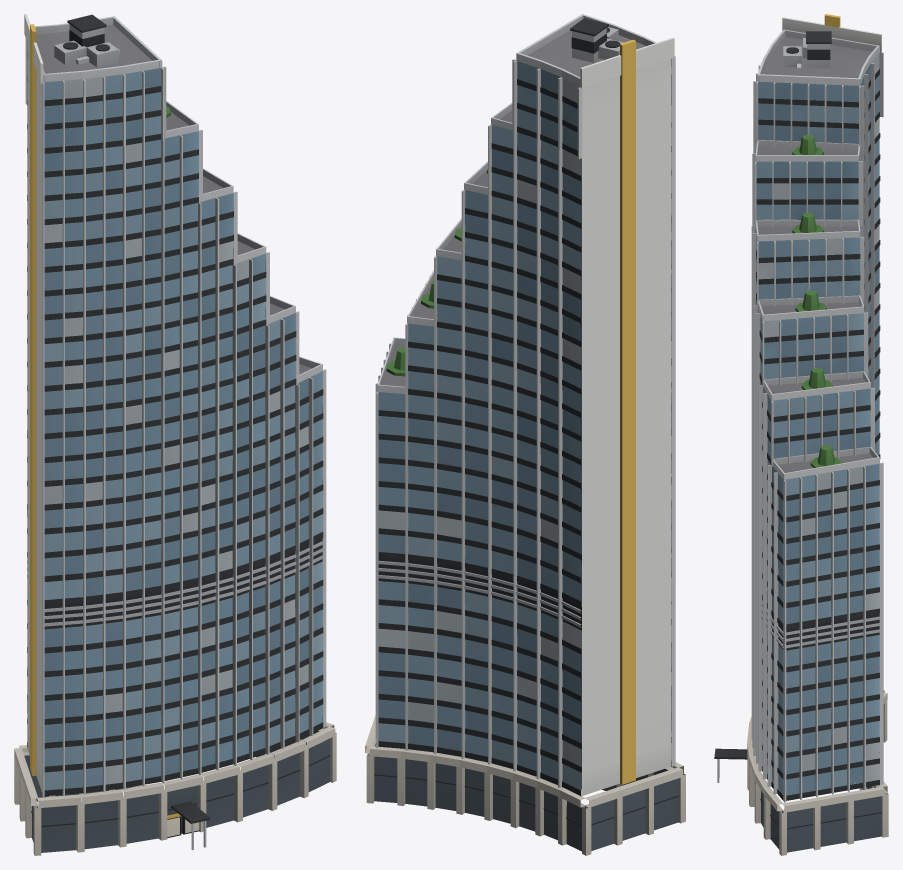
3 views of the same model, side by side, from view 1: azimuth 30°, elevation 25°; view 2: azimuth 150°, elevation 25°; view 3: azimuth 270°, elevation 25° (orthographic). The views are drawn at different scales.
Parts seen in each view (by area): view 1: t4; view 2: t4; view 3: t4.
Boxes of the visible parts, x1,y1,x2,y2 form: t4: (14,14,336,855); t4: (365,14,685,855); t4: (714,14,888,855).
Size of the model in its own units: 52.16 by 131 by 28.73.
